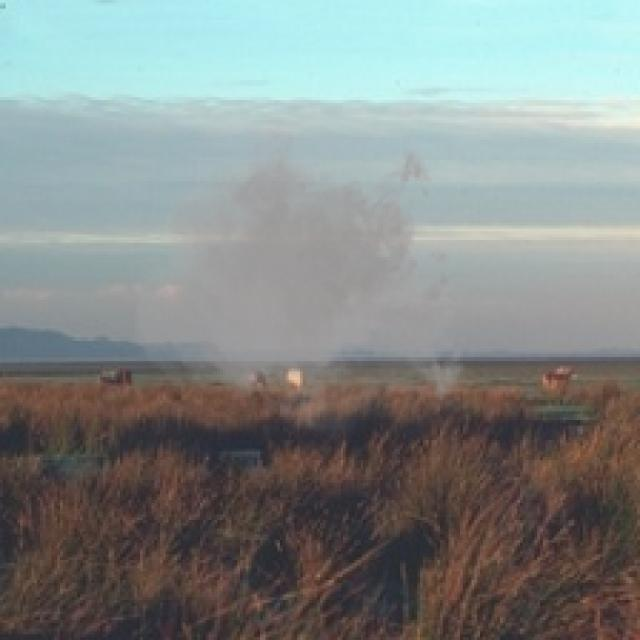smoke: (129, 97, 474, 449)
